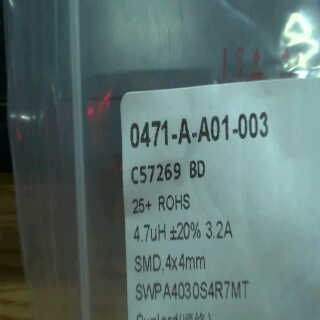4.7uH: (132, 218, 169, 247)
